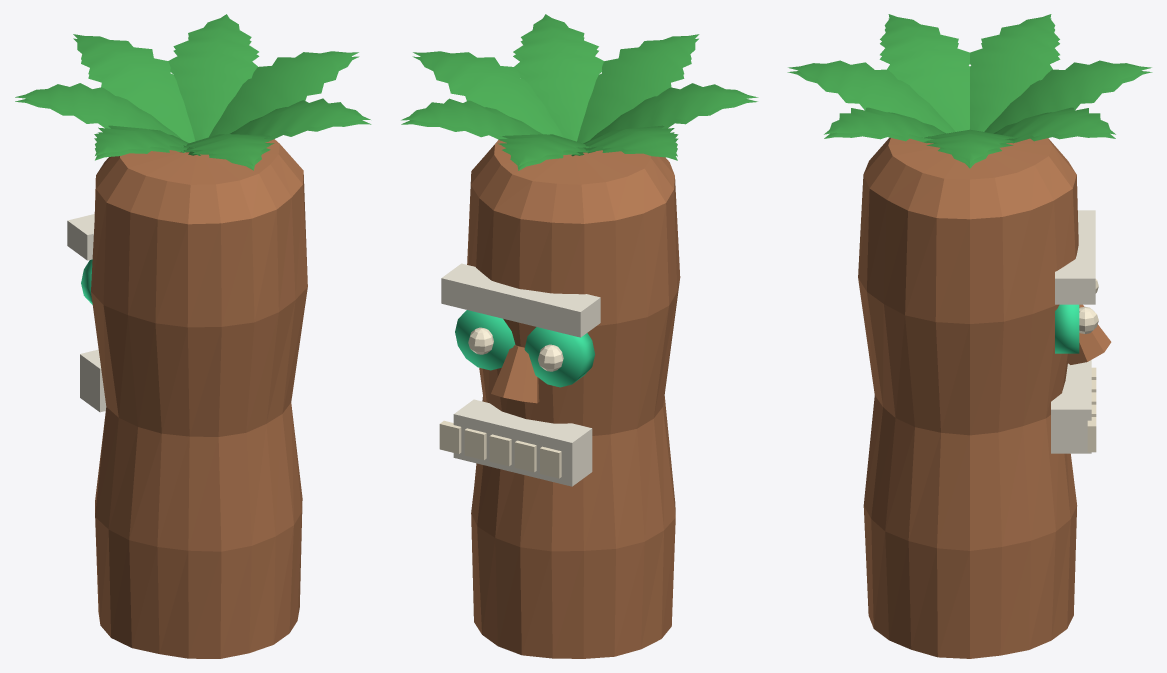
File: BumperTikiTotem.obj
3 renders of one model, left to right at view 1: azimuth 30°, elevation 25°; view 2: azimuth 150°, elevation 25°; view 3: azimuth 270°, elevation 25°, orthographic.
Parts seen in each view (by area): view 1: Wood, Leaves, Paint; view 2: Wood, Leaves, Paint, Eyes, Teeth; view 3: Wood, Leaves, Paint, Eyes, Teeth.
Part boxes in pixels (x1=…): Wood: x1=91, y1=139, x2=307, y2=658; Leaves: x1=15, y1=14, x2=371, y2=170; Paint: x1=67, y1=214, x2=106, y2=412; Wood: x1=467, y1=140, x2=680, y2=658; Leaves: x1=401, y1=14, x2=758, y2=170; Paint: x1=441, y1=263, x2=600, y2=486; Eyes: x1=455, y1=310, x2=594, y2=387; Teeth: x1=439, y1=327, x2=563, y2=478; Wood: x1=858, y1=137, x2=1111, y2=658; Leaves: x1=787, y1=14, x2=1152, y2=168; Paint: x1=1051, y1=210, x2=1095, y2=453; Eyes: x1=1055, y1=304, x2=1079, y2=353; Teeth: x1=1079, y1=279, x2=1098, y2=452.
Size of the model in its own units: 4.39 by 7.26 by 4.51.
